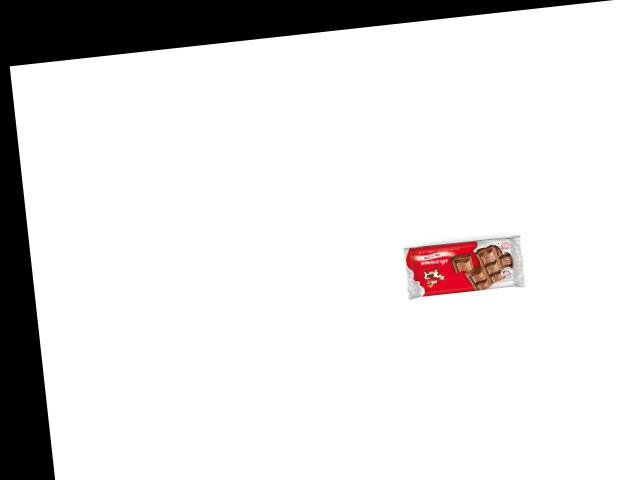chocolate: (401, 234, 529, 300)
